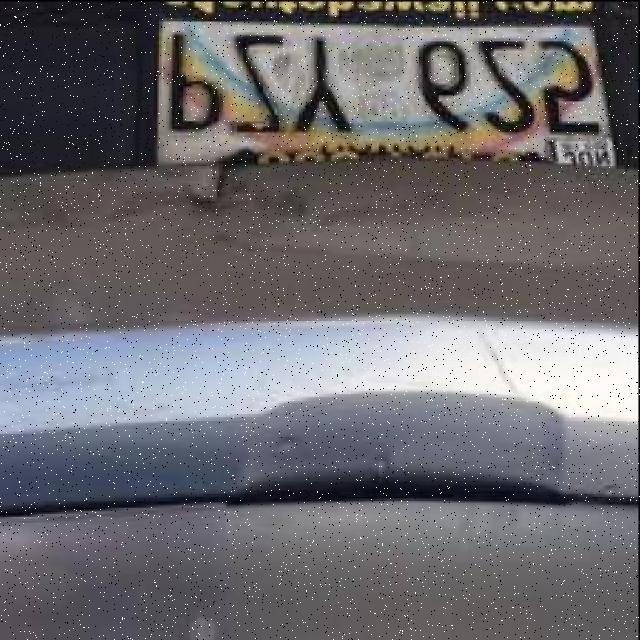damage: (9, 156, 525, 252)
